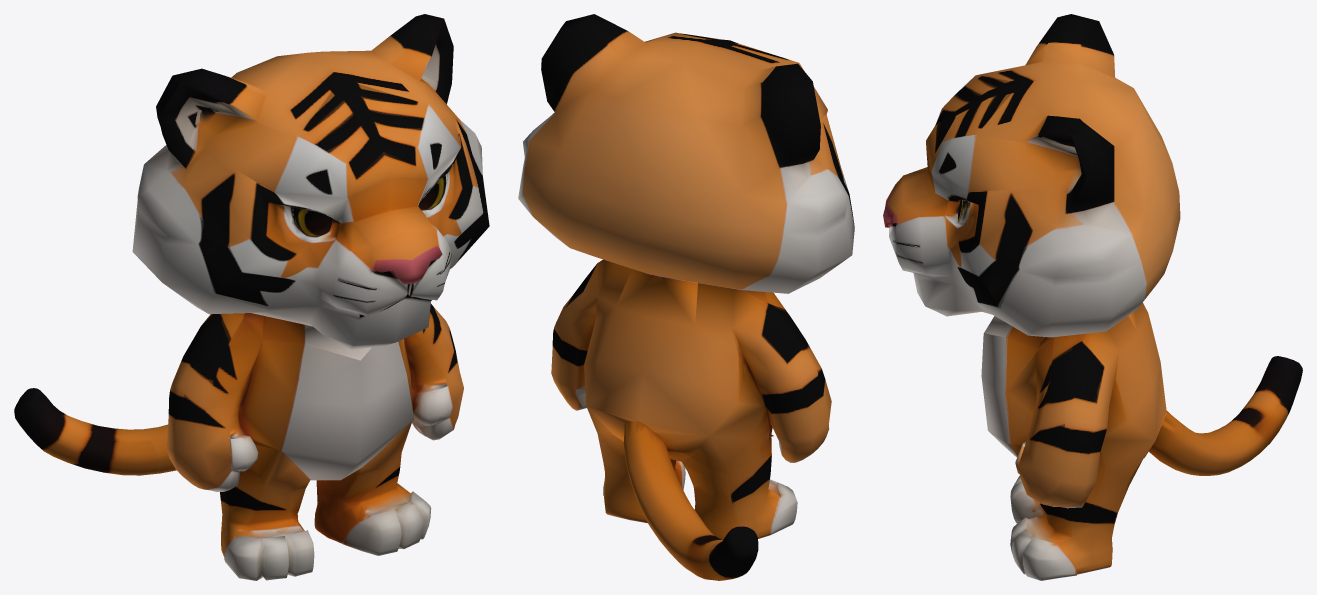
The model's file is runner.glb.
3 renders of one model, left to right at view 1: azimuth 30°, elevation 25°; view 2: azimuth 150°, elevation 25°; view 3: azimuth 270°, elevation 25°, orthographic. The views are drawn at different scales.
Parts seen in each view (by area): view 1: material; view 2: material; view 3: material.
Boxes of the visible parts, box(x1,y1,x2,y2) form: material: box(14, 14, 489, 580); material: box(518, 14, 854, 580); material: box(883, 14, 1302, 580).
Size of the model in its own units: 1.37 by 1.9 by 1.53.
Materials: 1 (1 with a texture image).
